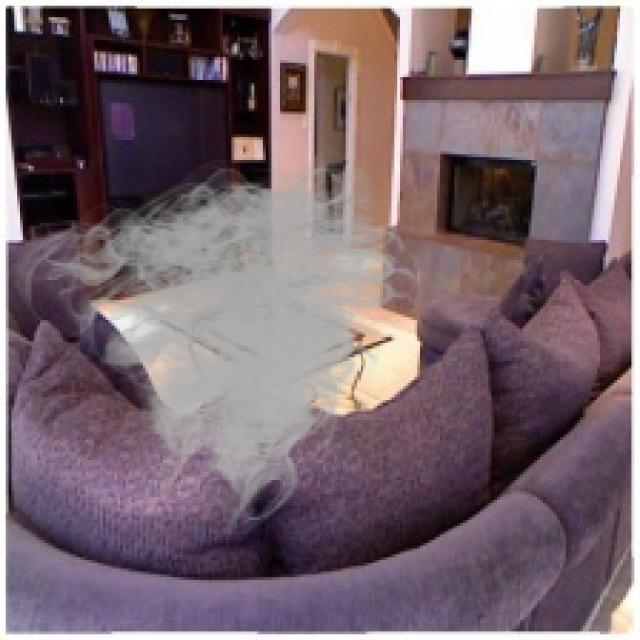Smoke: (8, 140, 434, 534)
